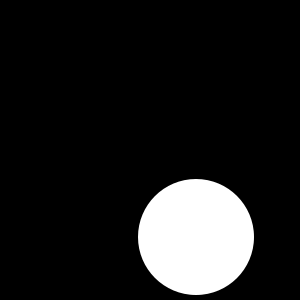rectangle: (138, 179, 254, 295)
